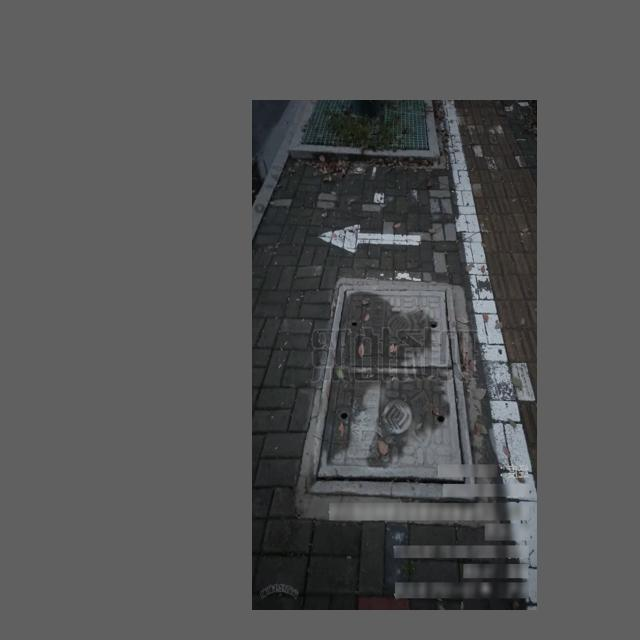good: (308, 284, 478, 499)
